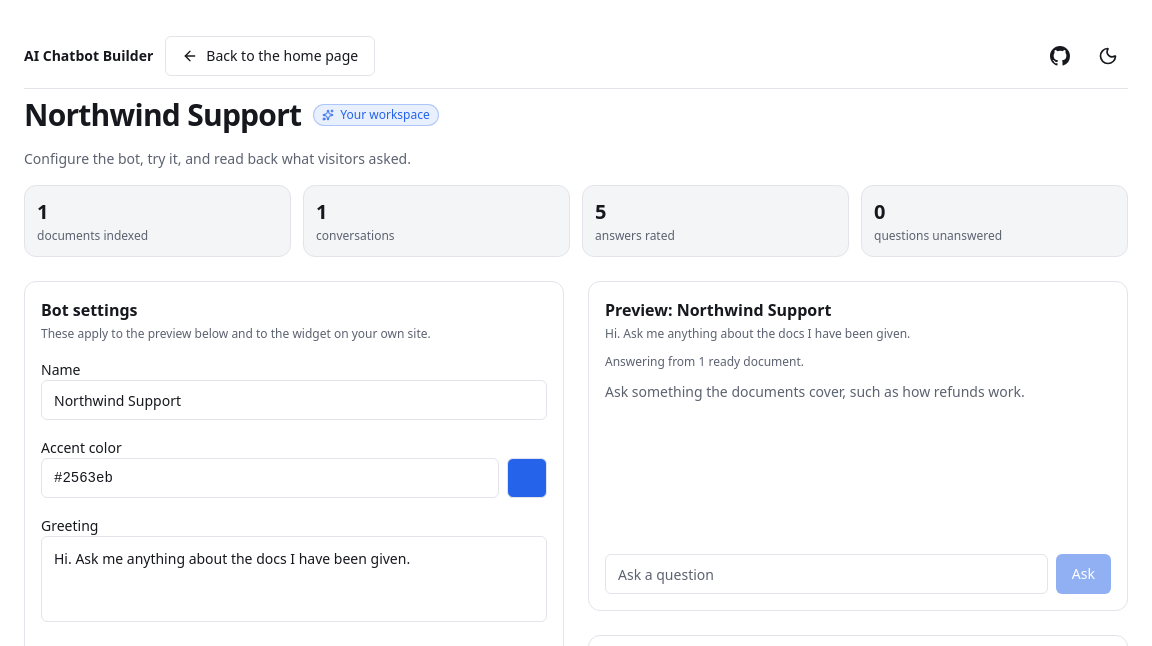
Test: 5.2 preview chat › shows a saved setting in the preview with no reload
This screenshot has width=1152, height=646.
expect the heading "Northwind Support" is shown: met, box [24,97,301,133]
Replace the text in the field labelled "Name" with "Northwind Helper": (294, 400) [41,380,547,420]
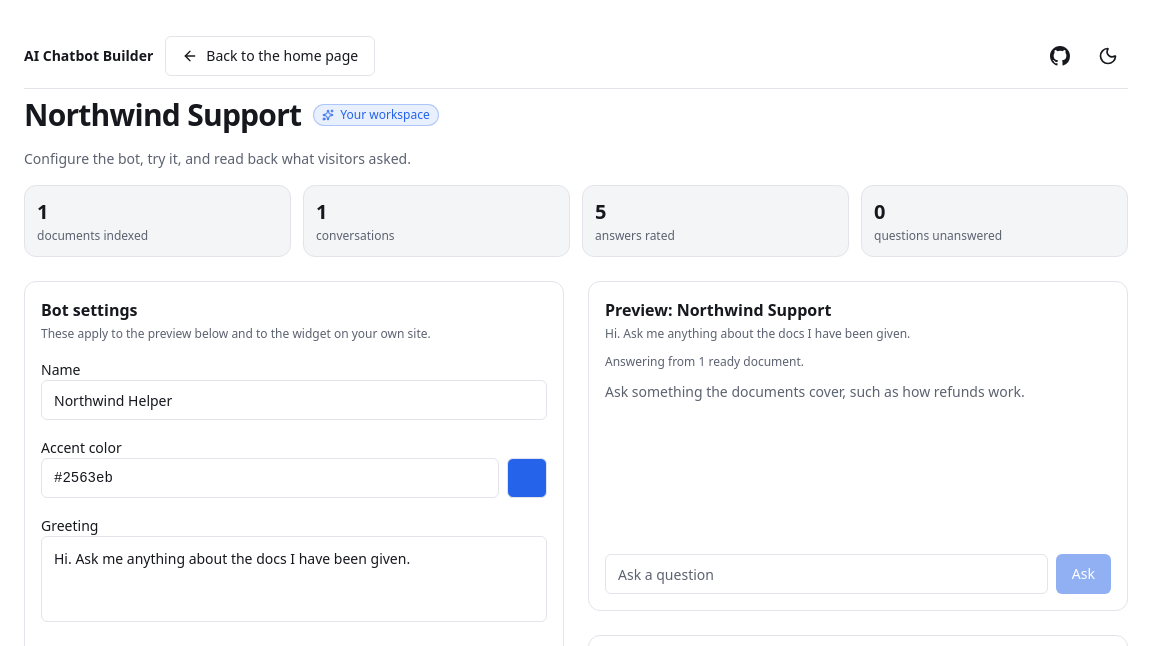
Replace the text in the text box labelled "Greeting" with "Ask me about billing.": (294, 579) [41,536,547,622]
(page scrolled)
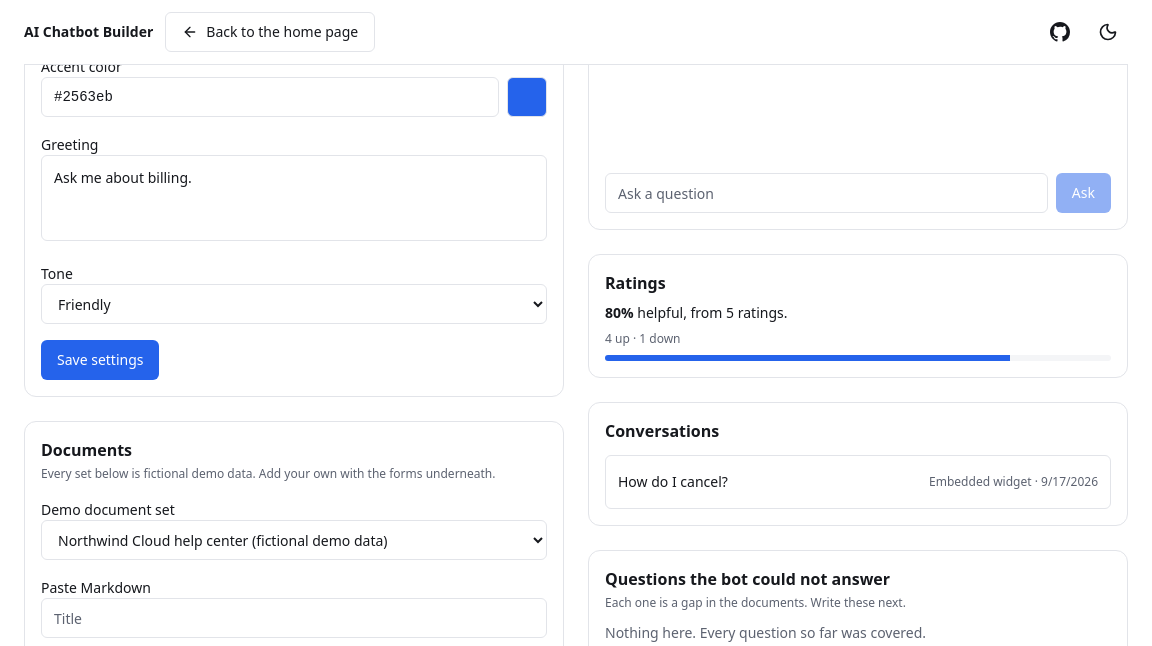
Click the button "Save settings": (100, 360) [41,340,160,380]
(page scrolled)
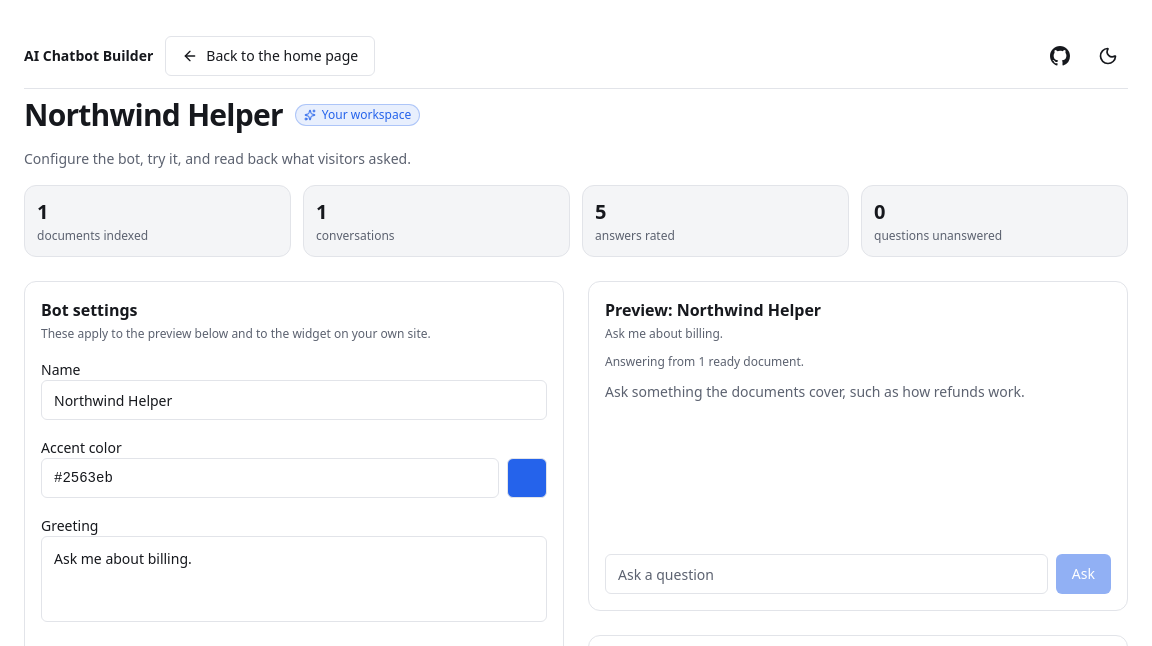
expect the heading "Preview: Northwind Helper" is shown: met, box [605,299,821,321]
expect the text "Ask me about billing." is shown: met, box [605,325,723,342]
